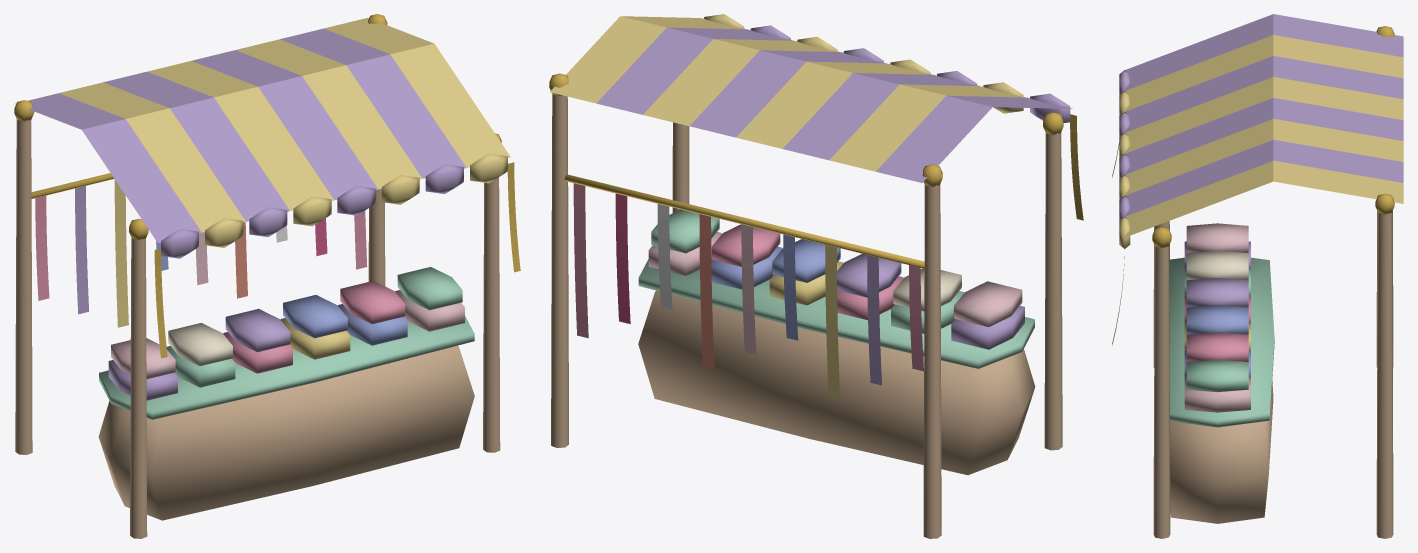
Rendered from fae_market_stall_b.gltf.
The picture shows the model from 3 angles, left to right: view 1: azimuth 30°, elevation 25°; view 2: azimuth 150°, elevation 25°; view 3: azimuth 270°, elevation 25°; orthographic projection. The views are drawn at different scales.
Parts seen in each view (by area): view 1: fae_market_stall_b; view 2: fae_market_stall_b; view 3: fae_market_stall_b.
Boxes of the visible parts, <box> form: fae_market_stall_b: <box>14,14,520,538</box>; fae_market_stall_b: <box>549,14,1083,538</box>; fae_market_stall_b: <box>1112,14,1403,538</box>.
Size of what is drawn, in the model's own units: 3.38 by 3.15 by 2.35.
